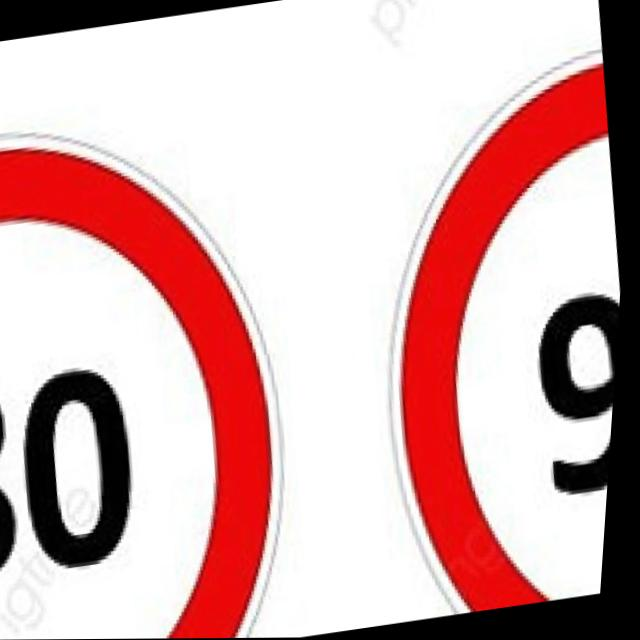Speed Limit -90-: (334, 39, 638, 623)
